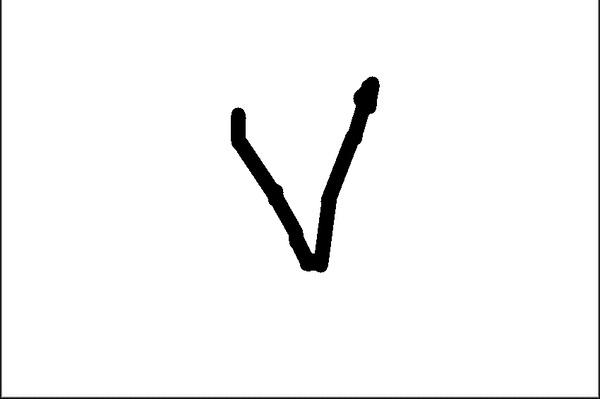V: (209, 77, 386, 272)
